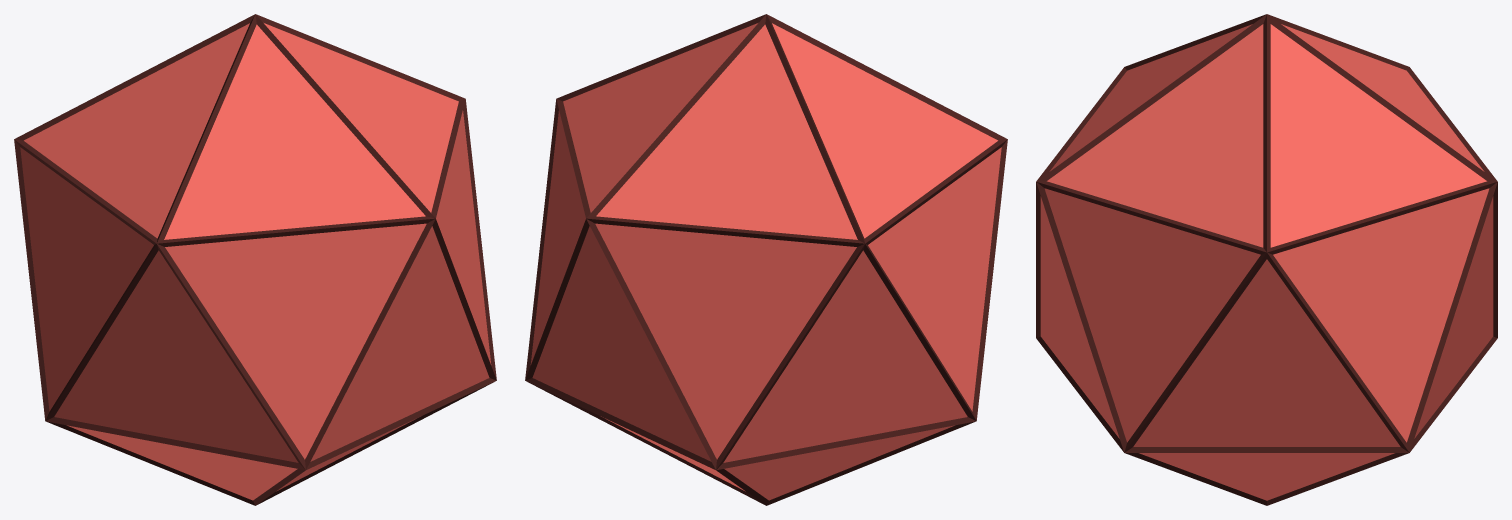
The picture shows the model from 3 angles, left to right: view 1: azimuth 30°, elevation 25°; view 2: azimuth 150°, elevation 25°; view 3: azimuth 270°, elevation 25°; orthographic projection.
Parts seen in each view (by area): view 1: Icosphere.002; view 2: Icosphere.002; view 3: Icosphere.002.
Boxes of the visible parts, bbox=[...] form: Icosphere.002: bbox=[14, 14, 496, 505]; Icosphere.002: bbox=[525, 14, 1007, 505]; Icosphere.002: bbox=[1036, 14, 1497, 505].
Bounding box in the file's own units: 1.81 × 2.03 × 1.73.
1 material, 1 textured.
